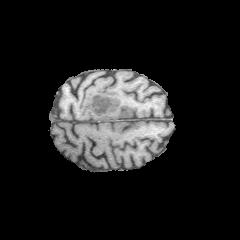glioma: (84, 91, 133, 119)
